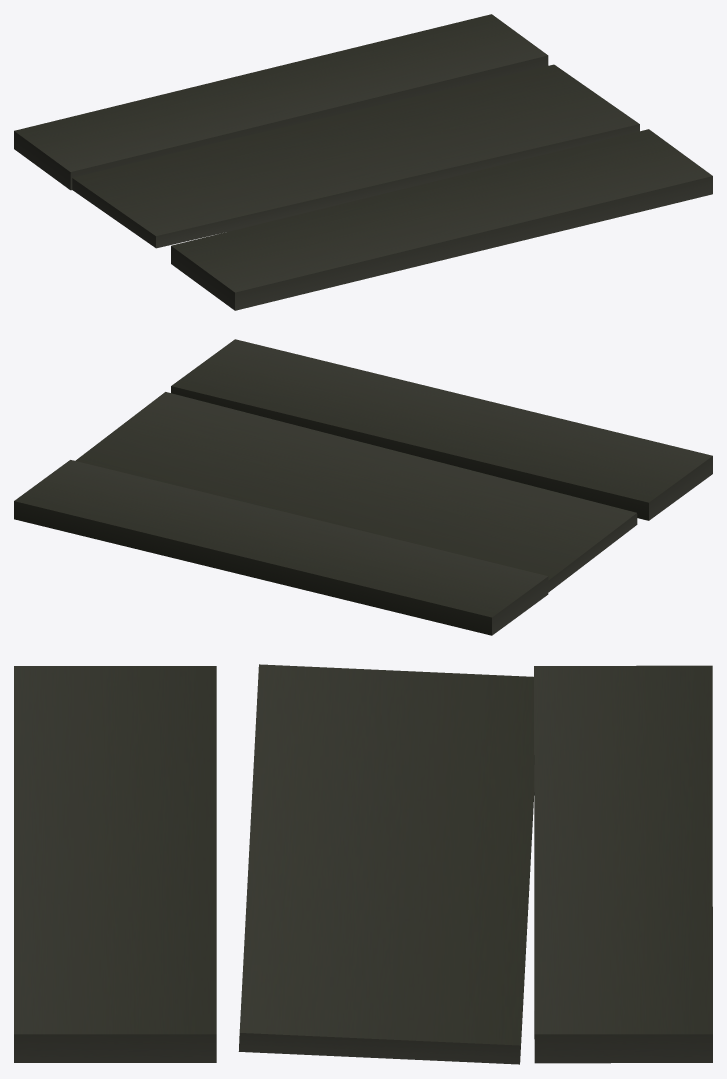
File: Bridge.fbx
The picture shows the model from 3 angles, top to bottom: view 1: azimuth 30°, elevation 25°; view 2: azimuth 150°, elevation 25°; view 3: azimuth 270°, elevation 25°; orthographic projection. The views are drawn at different scales.
Parts seen in each view (by area): view 1: pCube4; view 2: pCube4; view 3: pCube4.
Boxes of the visible parts, box(x1,y1,x2,y2) form: pCube4: box(14, 14, 712, 310); pCube4: box(14, 339, 712, 635); pCube4: box(14, 664, 712, 1064).
Size of the model in its own units: 1.8 by 0.0657 by 1.43.
